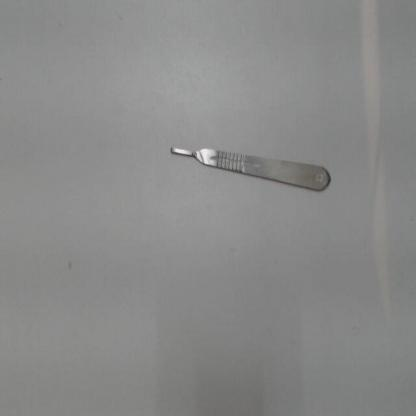No.3 BP Handle: (167, 136, 338, 200)
